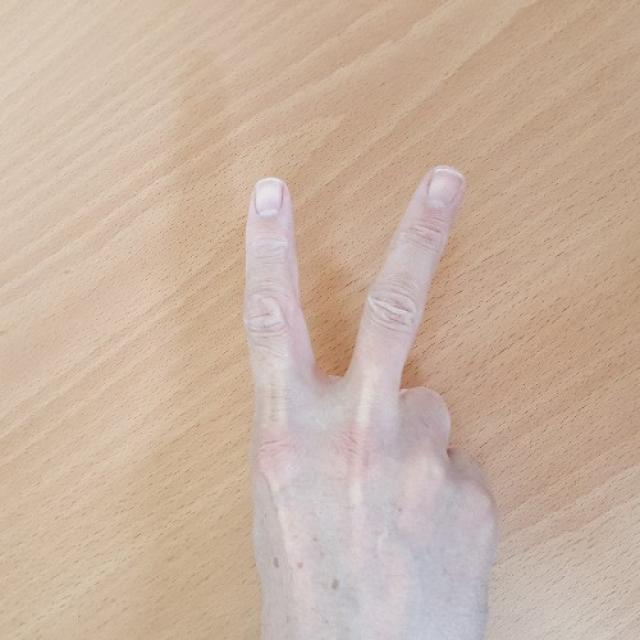scissors: (239, 163, 496, 616)
